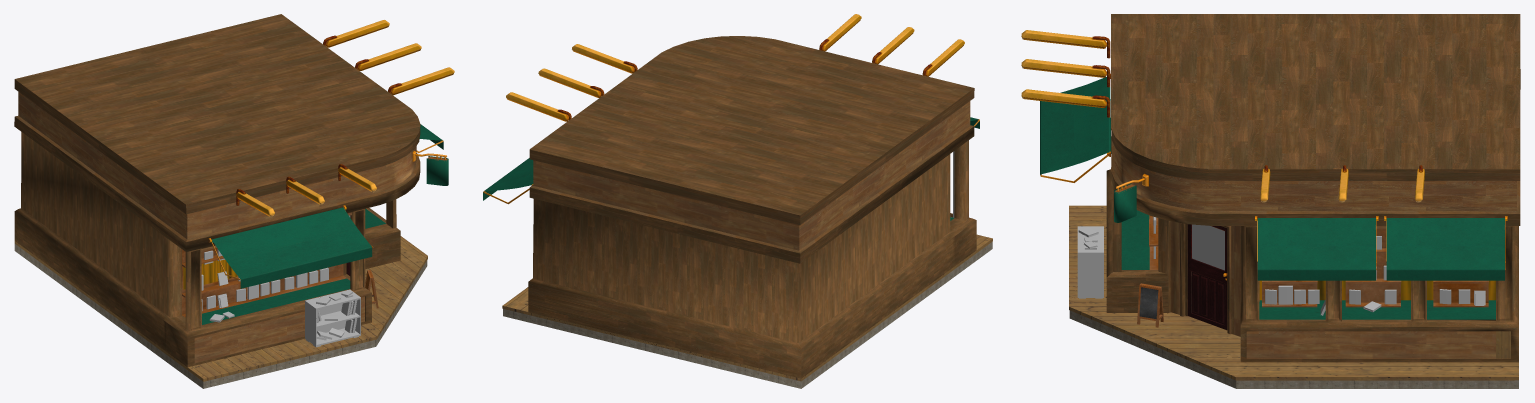
Rendered from StationeryStore.fbx.
3 renders of one model, left to right at view 1: azimuth 30°, elevation 25°; view 2: azimuth 150°, elevation 25°; view 3: azimuth 270°, elevation 25°, orthographic. The views are drawn at different scales.
Visible parts, largest first — view 1: StationeryStore, polySurface119, polySurface144.003, pCube138, StationeryStore.001; view 2: StationeryStore; view 3: StationeryStore, Door, Books, polySurface119, polySurface144.008, polySurface144, Info, polySurface144.011, polySurface144.003.
Boxes of the visible parts, x1,y1,x2,y2 form: StationeryStore: (14, 14, 454, 388); polySurface119: (305, 289, 360, 347); polySurface144.003: (182, 248, 346, 317); pCube138: (201, 249, 328, 322); StationeryStore.001: (183, 259, 237, 289); StationeryStore: (483, 14, 992, 388); StationeryStore: (1021, 14, 1520, 388); Door: (1187, 224, 1227, 330); Books: (1265, 236, 1485, 315); polySurface119: (1077, 226, 1103, 298); polySurface144.008: (1345, 229, 1401, 307); polySurface144: (1433, 280, 1488, 307); Info: (1137, 283, 1163, 327); polySurface144.011: (1262, 280, 1317, 307); polySurface144.003: (1149, 215, 1158, 269).
Bounding box in the file's own units: 1240 × 645 × 1353.
